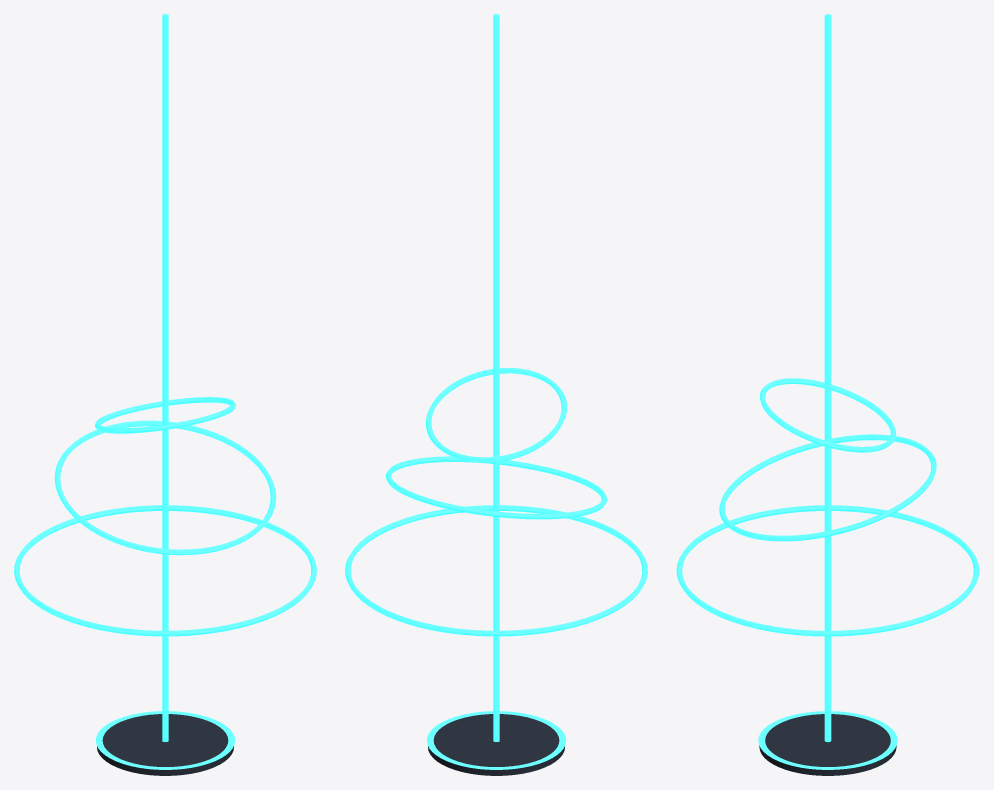
3 renders of one model, left to right at view 1: azimuth 30°, elevation 25°; view 2: azimuth 150°, elevation 25°; view 3: azimuth 270°, elevation 25°, orthographic.
Parts seen in each view (by area): view 1: nexo_beacon.lod0; view 2: nexo_beacon.lod0; view 3: nexo_beacon.lod0.
Boxes of the visible parts, bbox=[...] form: nexo_beacon.lod0: bbox=[14, 14, 316, 775]; nexo_beacon.lod0: bbox=[345, 14, 647, 775]; nexo_beacon.lod0: bbox=[676, 14, 979, 775].
Bounding box in the file's own units: 5.3 × 14.12 × 5.3.
